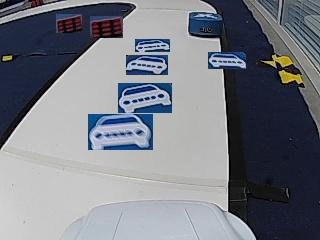prop: (189, 12, 222, 37)
